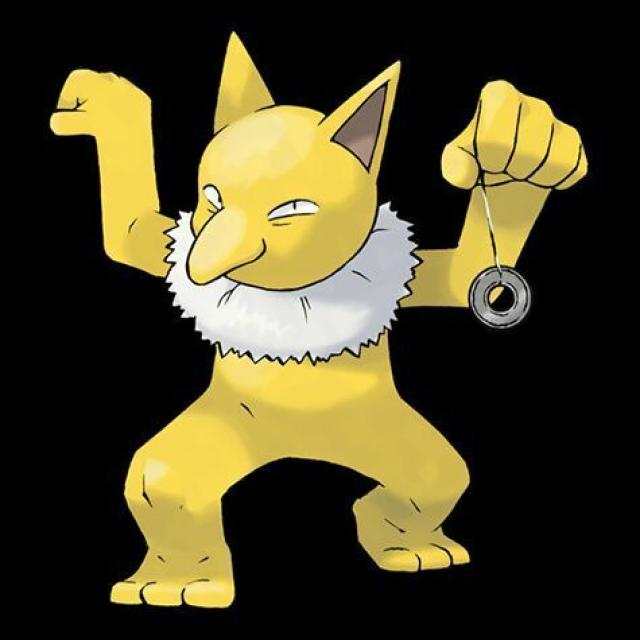Hypno: (111, 29, 539, 616)
